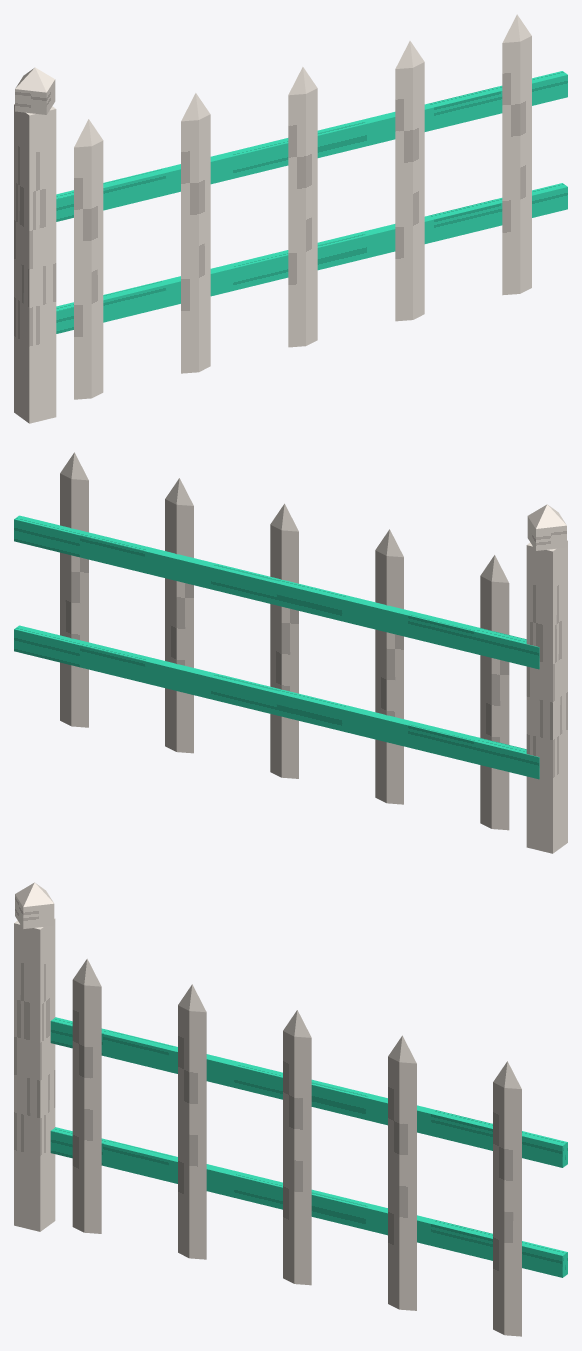
File: Picket Fence.fbx
The picture shows the model from 3 angles, top to bottom: view 1: azimuth 30°, elevation 25°; view 2: azimuth 150°, elevation 25°; view 3: azimuth 330°, elevation 25°; orthographic projection.
Visible parts, largest first — view 1: Picket Fence post, Picket Fence rail 0.3, Picket Fence rail 0.7, Picket Fence picket 1, Picket Fence picket 2, Picket Fence picket 3, Picket Fence picket 4, Picket Fence picket 0, Picket Fence post cap; view 2: Picket Fence rail 0.7, Picket Fence rail 0.3, Picket Fence post, Picket Fence picket 0, Picket Fence picket 2, Picket Fence picket 1, Picket Fence picket 4, Picket Fence picket 3, Picket Fence post cap; view 3: Picket Fence post, Picket Fence rail 0.7, Picket Fence rail 0.3, Picket Fence picket 0, Picket Fence picket 3, Picket Fence picket 4, Picket Fence picket 1, Picket Fence picket 2, Picket Fence post cap.
Part boxes in pixels (x1,y1,x2,y2): Picket Fence post: (14, 104, 56, 423); Picket Fence rail 0.3: (56, 183, 567, 333); Picket Fence rail 0.7: (56, 71, 567, 221); Picket Fence picket 1: (181, 93, 210, 373); Picket Fence picket 2: (288, 67, 317, 347); Picket Fence picket 3: (395, 41, 424, 321); Picket Fence picket 4: (502, 14, 531, 295); Picket Fence picket 0: (74, 119, 103, 399); Picket Fence post cap: (15, 67, 55, 114); Picket Fence rail 0.7: (14, 515, 539, 669); Picket Fence rail 0.3: (14, 625, 539, 779); Picket Fence post: (526, 540, 567, 853); Picket Fence picket 0: (480, 555, 509, 830); Picket Fence picket 2: (270, 503, 298, 778); Picket Fence picket 1: (375, 529, 403, 804); Picket Fence picket 4: (60, 452, 88, 727); Picket Fence picket 3: (165, 478, 193, 753); Picket Fence post cap: (527, 504, 566, 550); Picket Fence post: (14, 918, 55, 1231); Picket Fence rail 0.7: (50, 1017, 567, 1167); Picket Fence rail 0.3: (50, 1127, 567, 1277); Picket Fence picket 0: (72, 959, 101, 1233); Picket Fence picket 3: (388, 1035, 416, 1310); Picket Fence picket 4: (493, 1061, 521, 1336); Picket Fence picket 1: (178, 984, 206, 1259); Picket Fence picket 2: (283, 1010, 311, 1285); Picket Fence post cap: (15, 882, 54, 928).
Size of the model in its own units: 2.08 by 1.24 by 0.15.
Materials: 2 (2 with a texture image).
